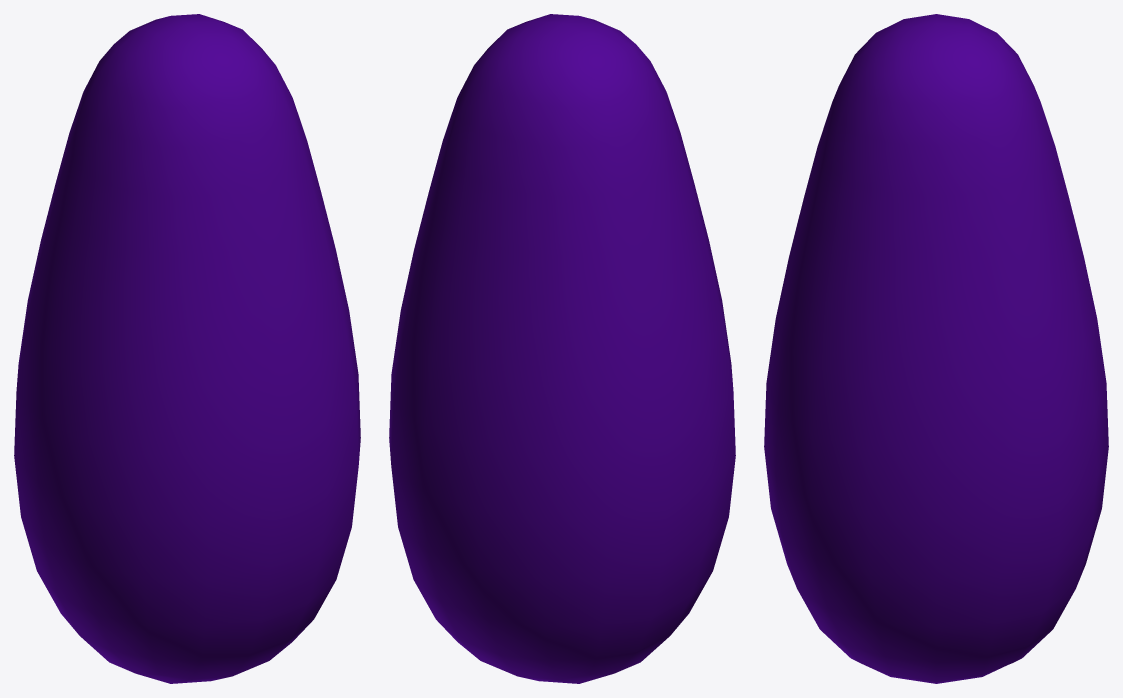
Rendered from eggplant.glb.
3 views of the same model, side by side, from view 1: azimuth 30°, elevation 25°; view 2: azimuth 150°, elevation 25°; view 3: azimuth 270°, elevation 25° (orthographic).
Parts seen in each view (by area): view 1: eggplant; view 2: eggplant; view 3: eggplant.
Part boxes in pixels (x1,y1,x2,y2): eggplant: (14,14,360,683); eggplant: (389,14,735,683); eggplant: (764,14,1108,683).
Size of the model in its own units: 0.9888 by 2.05 by 0.9888.
